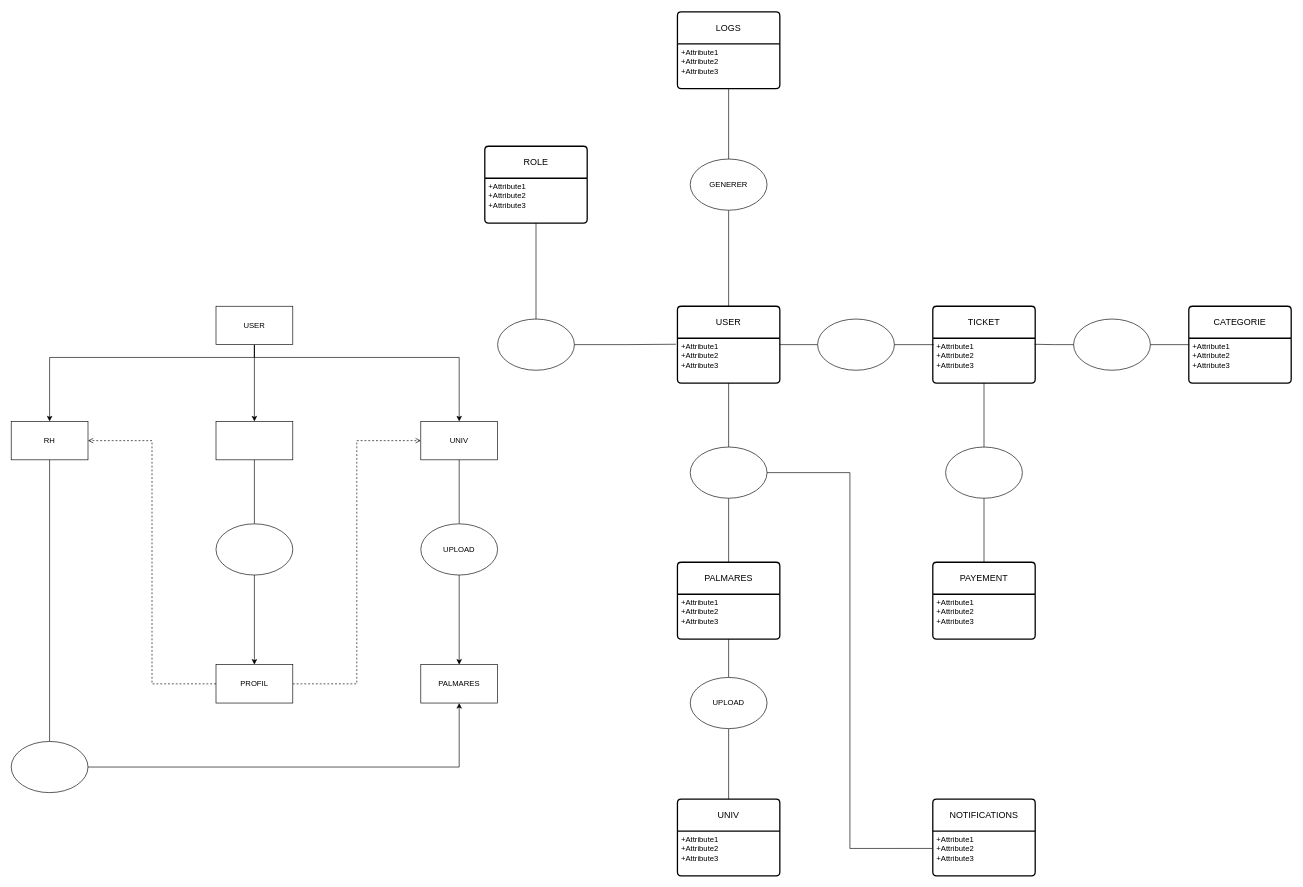
The diagram is 1303 pixels wide and 887 high, and some of its shapes have lost their labels. Here are the shapes that lost their labels. From the top down, the centre of each, then its label:
At point 535,344: "OBTENIR".
At point 855,344: "PAYER".
At point 1111,344: "CONTIENT".
At point 254,440: "ADMIN".
At point 728,472: "VERIFIER".
At point 983,472: "LISTE".
At point 254,549: "CREATION".
At point 49,767: "VÉRIFIER".
